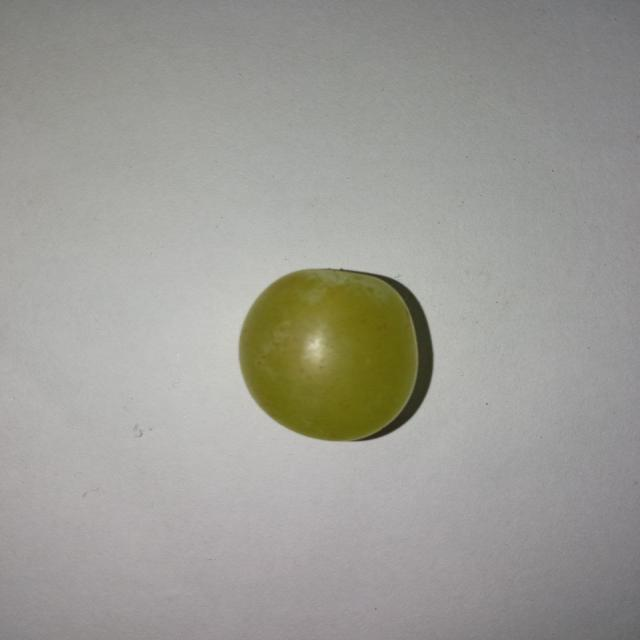fresh_grape: (243, 270, 414, 438)
